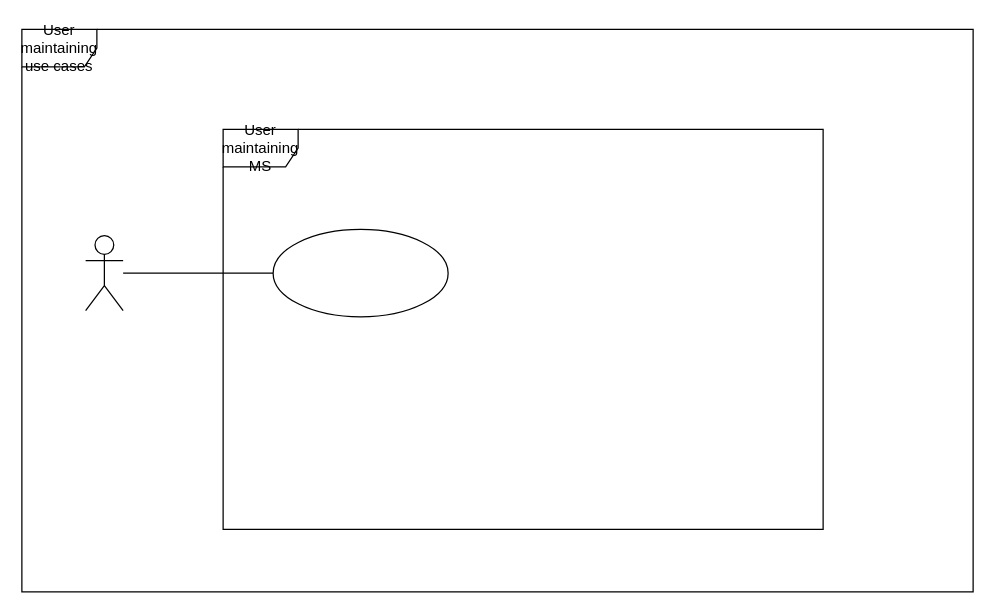
Some shapes in this 995 by 614 pixel diagram are drawn without their labels. The shapes that lost their labels are listed below. From the top down, each one's box as (x1, y1, x2, y2) in pixels, then its label:
(84, 234, 123, 311): maintainer
(272, 228, 448, 317): maintain the system
